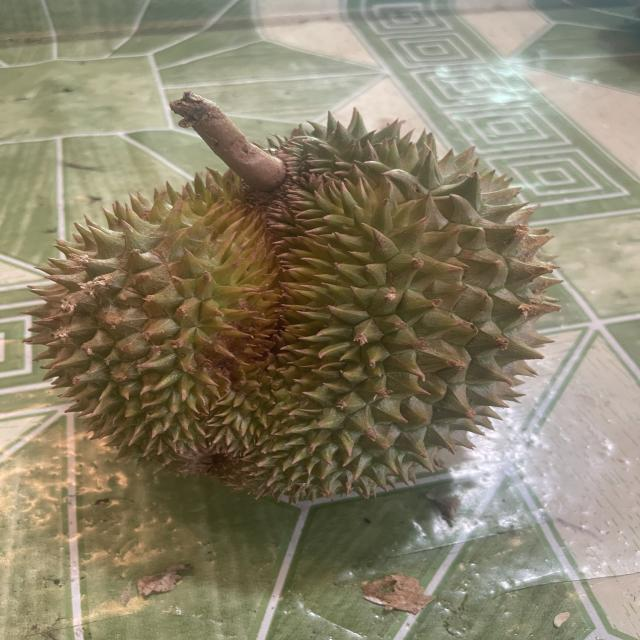mature: (27, 98, 574, 517)
